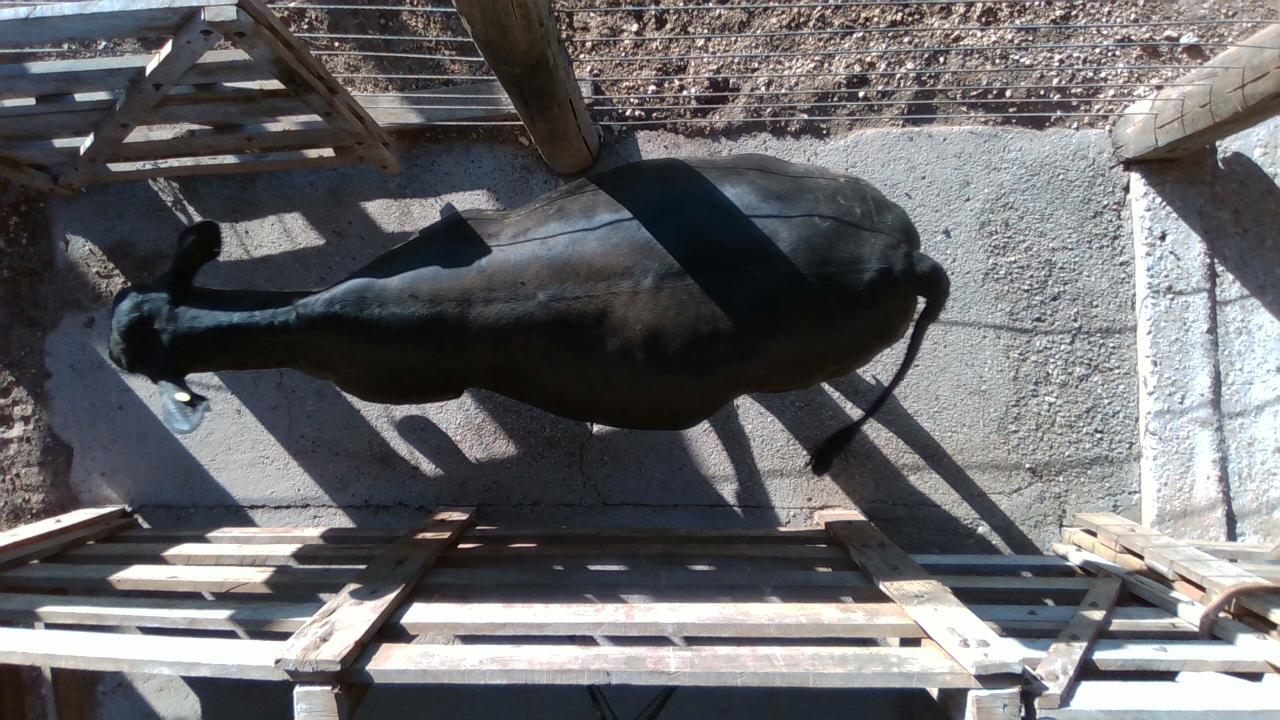cattle: (107, 150, 950, 469)
